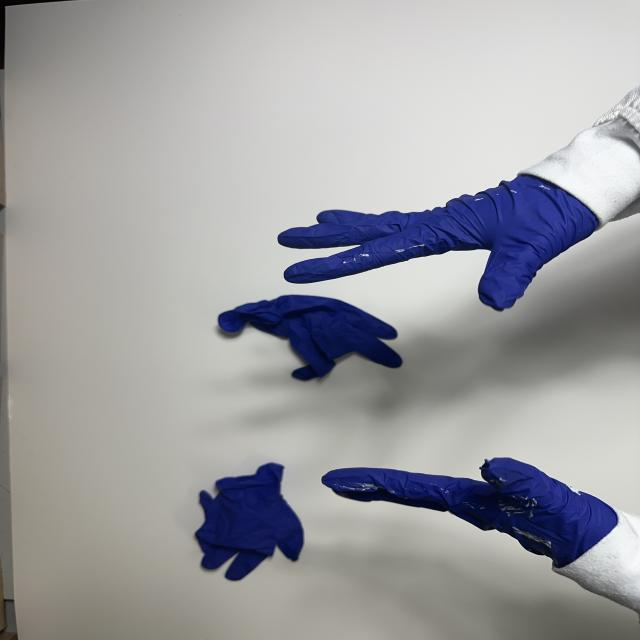gloves_contaminated: (278, 174, 599, 311), (322, 458, 617, 568)
